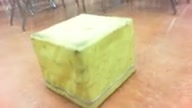cube: (30, 13, 137, 108)
